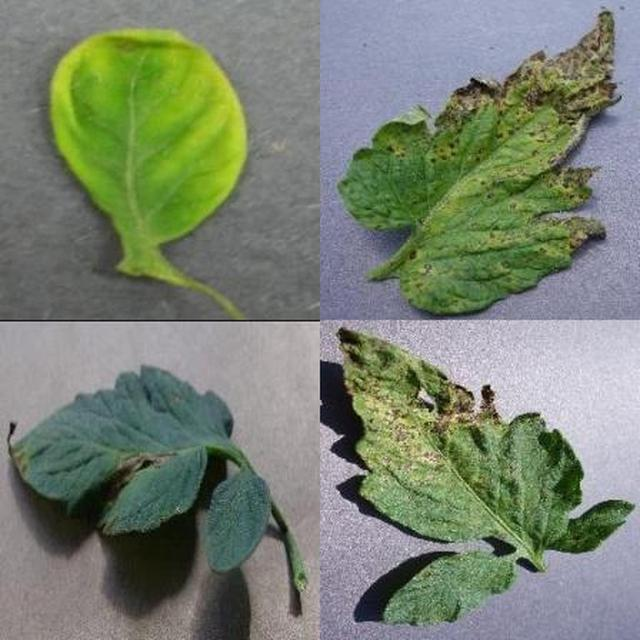Yellow Leaf Curl Virus: (100, 143, 640, 640)
